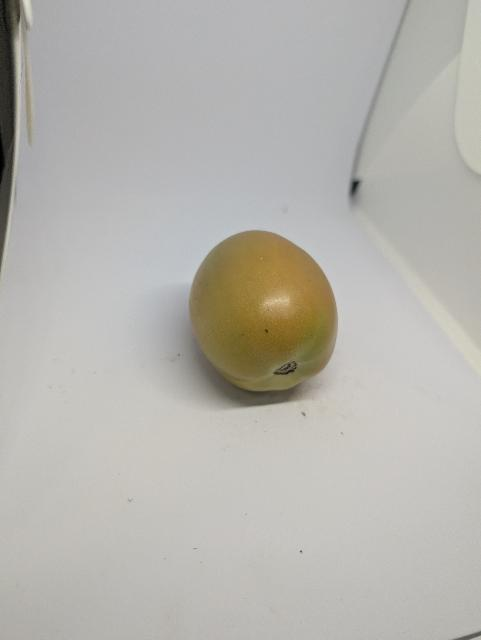breaker: (190, 231, 338, 391)
